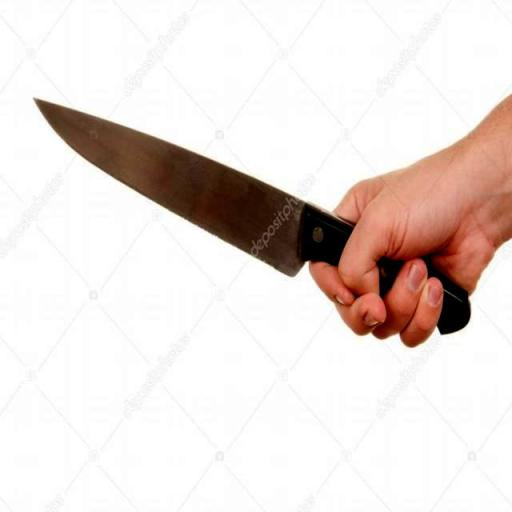knife: (27, 82, 431, 344)
